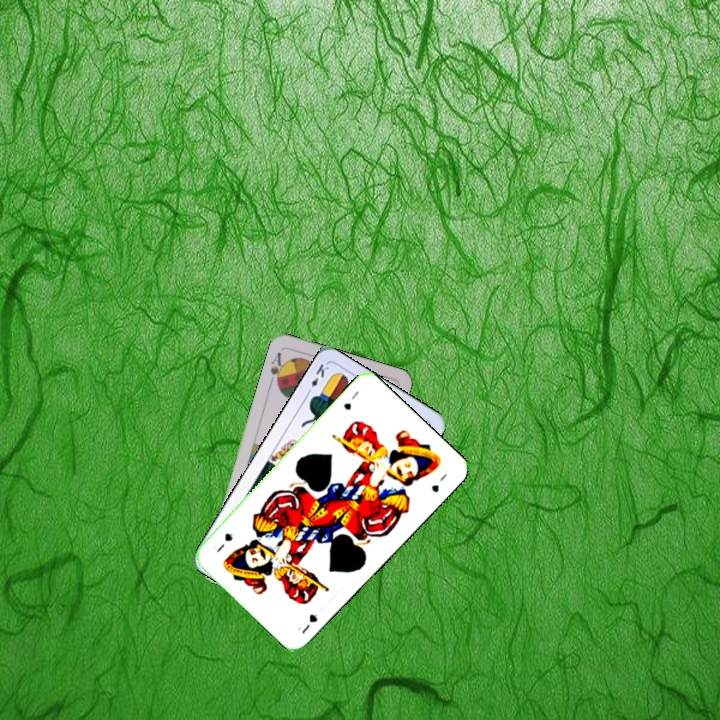EK: (302, 359, 332, 397)
GU: (293, 610, 320, 636), (339, 387, 361, 413)
SA: (266, 348, 288, 389)
